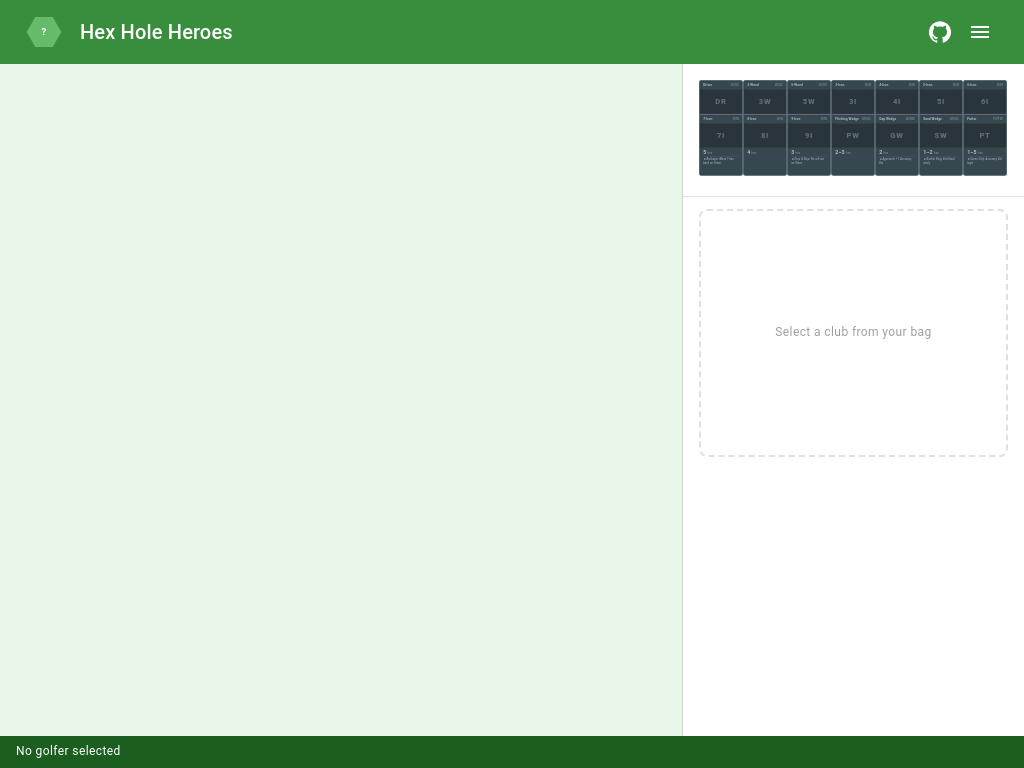
Test: Layout › navigates to /new-game when "New Game" is clicked
The width and height of the screenshot is (1024, 768).
Step 1. Click the button named "open menu" → click(980, 32), box x1=960 y1=12 x2=1000 y2=52
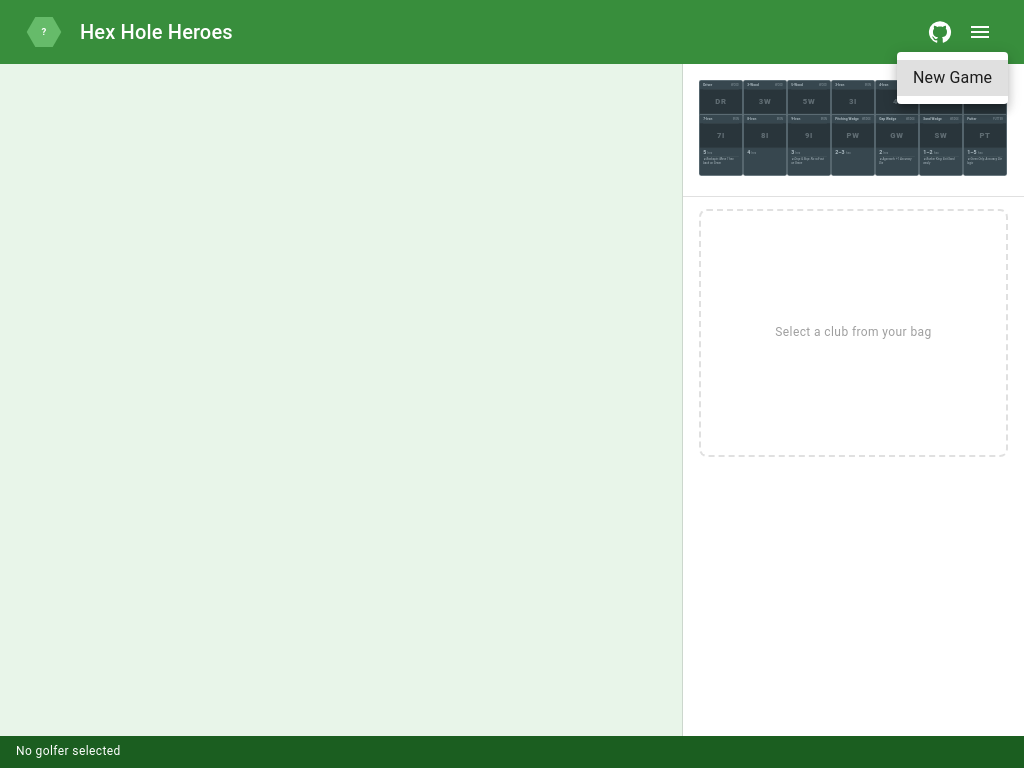
Step 2. Click the menu item "New Game" → click(953, 78), box x1=897 y1=60 x2=1008 y2=96
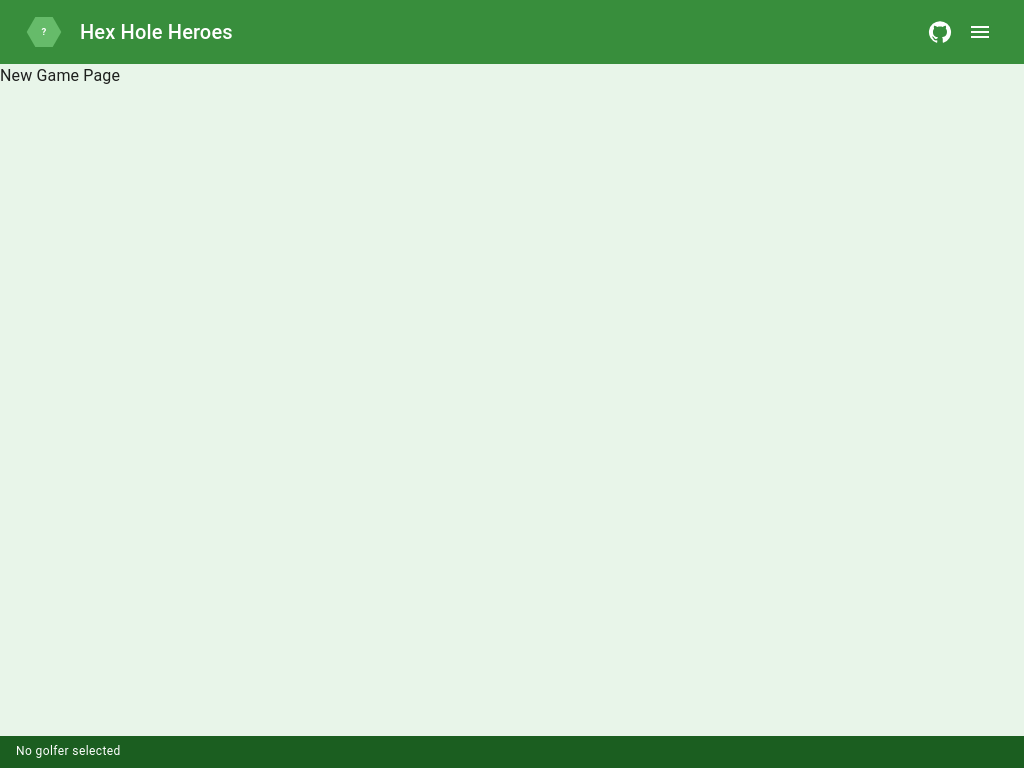
Expected: the text "New Game Page" is shown, x1=0 y1=66 x2=120 y2=85
